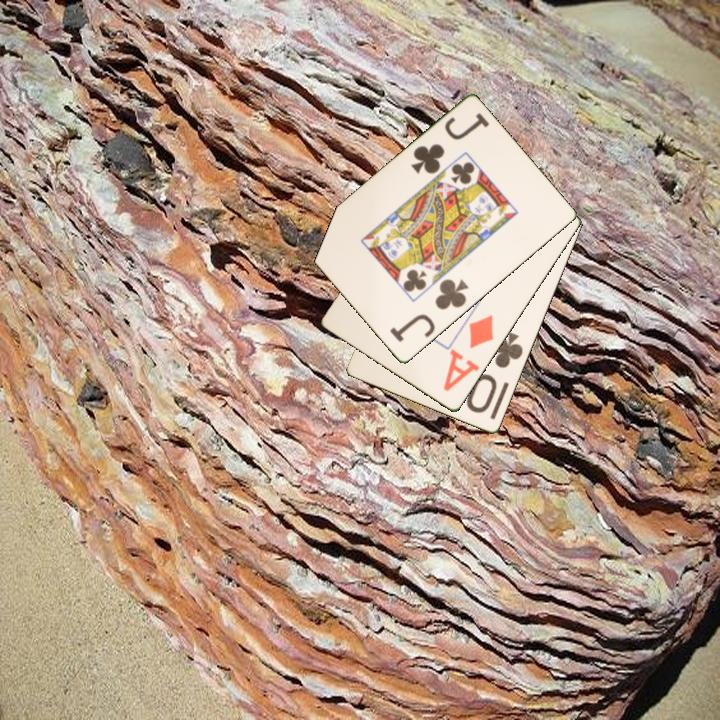10c: (463, 328, 526, 417)
Ad: (440, 311, 497, 395)
Jc: (386, 275, 472, 346), (407, 109, 493, 177)
